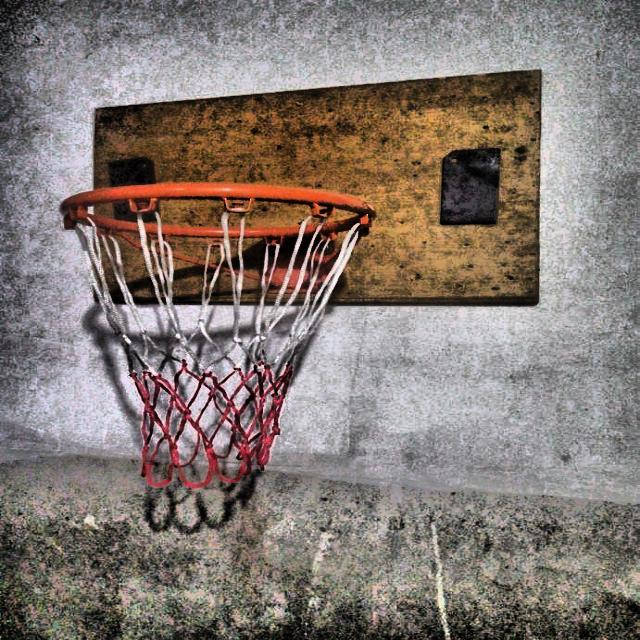rim: (62, 182, 372, 488)
